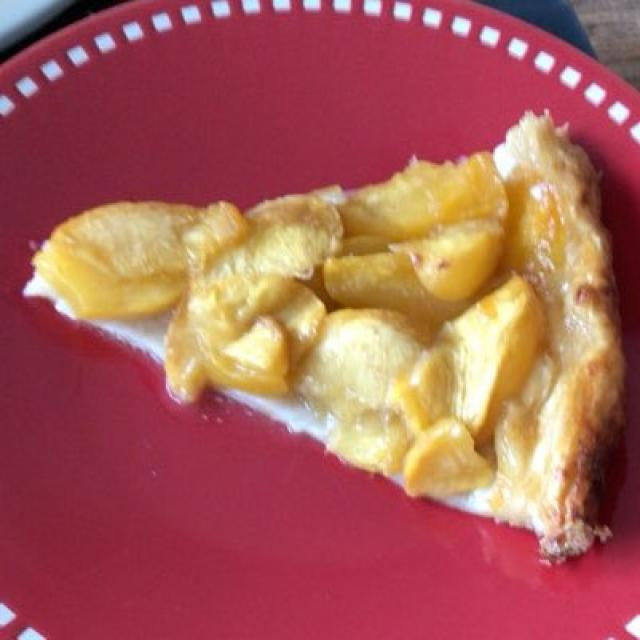pastry-flaky: (323, 112, 585, 524)
peach: (36, 129, 615, 542), (30, 134, 533, 522), (46, 165, 544, 497)
